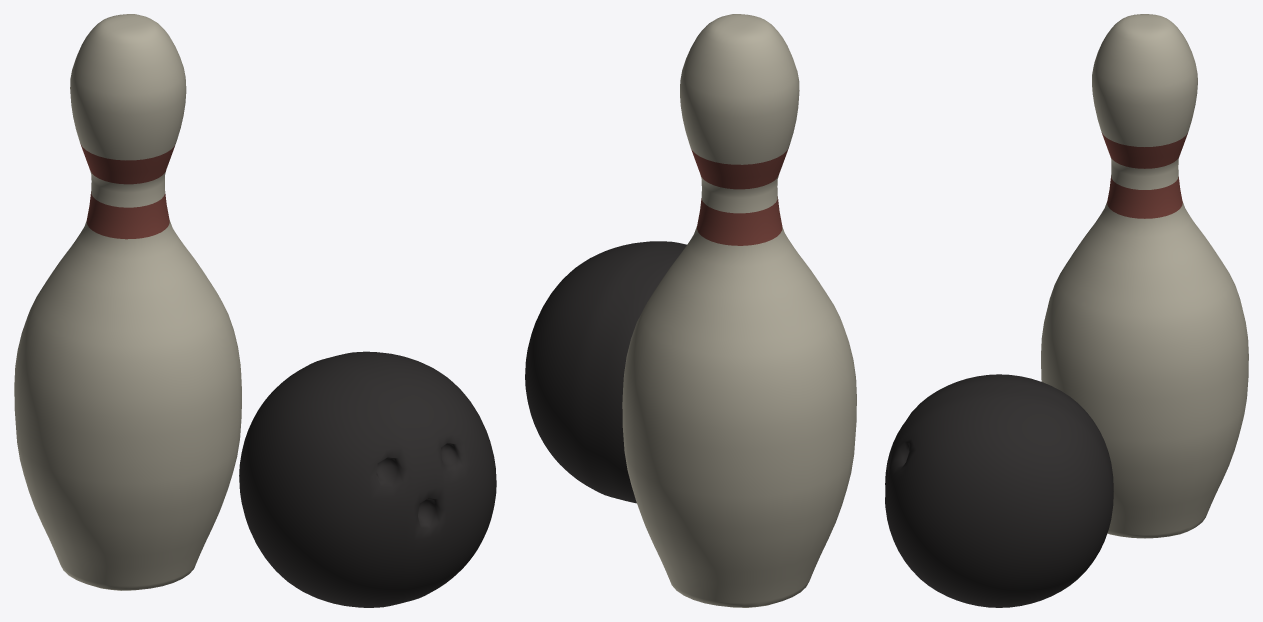
File: kalleee.fbx
3 renders of one model, left to right at view 1: azimuth 30°, elevation 25°; view 2: azimuth 150°, elevation 25°; view 3: azimuth 270°, elevation 25°, orthographic. The views are drawn at different scales.
Parts seen in each view (by area): view 1: target_msh, bola_msh; view 2: target_msh, bola_msh; view 3: target_msh, bola_msh.
Part boxes in pixels (bbox=[...]): target_msh: bbox=[14, 14, 241, 590]; bola_msh: bbox=[239, 351, 496, 607]; target_msh: bbox=[622, 14, 856, 607]; bola_msh: bbox=[525, 241, 686, 503]; target_msh: bbox=[1041, 14, 1248, 538]; bola_msh: bbox=[885, 374, 1113, 607].
Bounding box in the file's own units: 6.36 × 9.1 × 5.98.
